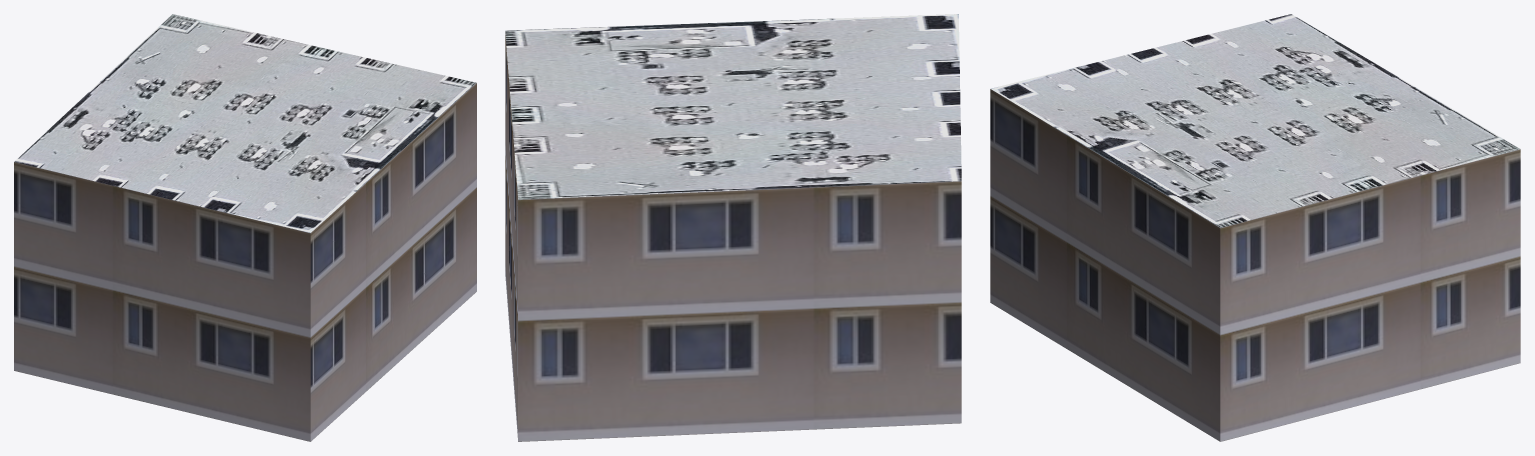
The model's file is ResTex__2491.fbx.
3 renders of one model, left to right at view 1: azimuth 30°, elevation 25°; view 2: azimuth 150°, elevation 25°; view 3: azimuth 270°, elevation 25°, orthographic. The views are drawn at different scales.
Visible parts, largest first — view 1: CityEngineMaterial_21_m, CityEngineMaterial_m; view 2: CityEngineMaterial_21_m, CityEngineMaterial_m; view 3: CityEngineMaterial_21_m, CityEngineMaterial_m.
Part boxes in pixels (x1,y1,x2,y2): CityEngineMaterial_21_m: (14, 83, 476, 441); CityEngineMaterial_m: (14, 14, 476, 232); CityEngineMaterial_21_m: (505, 34, 961, 441); CityEngineMaterial_m: (505, 14, 961, 199); CityEngineMaterial_21_m: (990, 89, 1520, 441); CityEngineMaterial_m: (990, 14, 1520, 227).
Bounding box in the file's own units: 12.87 × 6 × 13.48.
2 materials, 2 textured.
